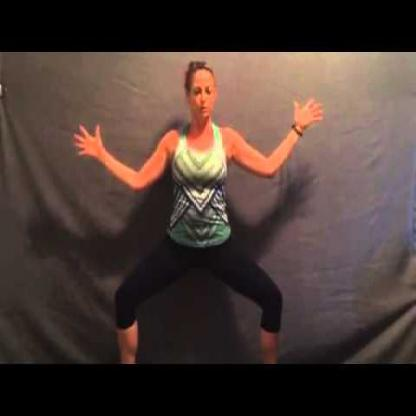godness: (72, 57, 326, 364)
